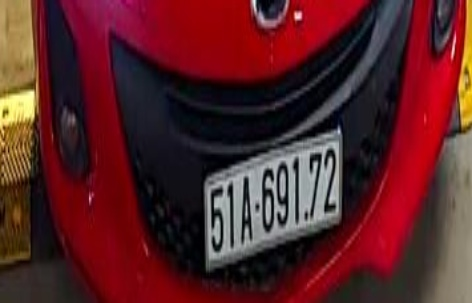plate: (195, 139, 354, 264)
